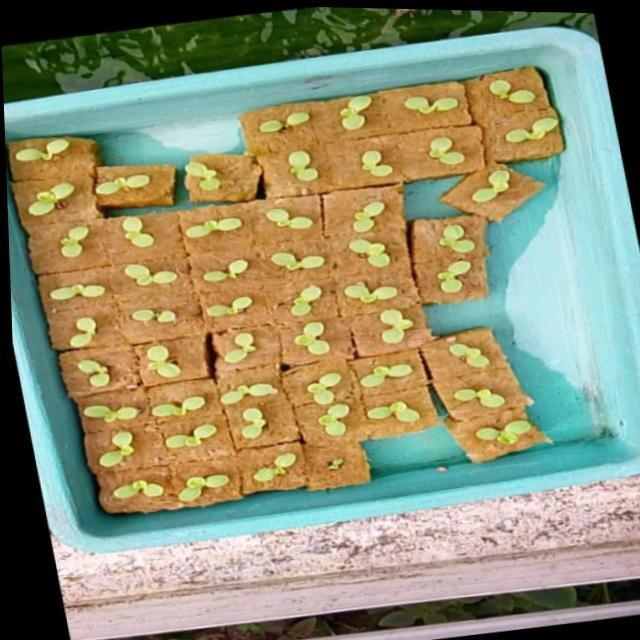Baby: (438, 170, 493, 216), (20, 220, 80, 261), (457, 77, 527, 112), (461, 110, 516, 147), (323, 277, 375, 311), (185, 336, 235, 370), (95, 311, 160, 337), (328, 366, 386, 395), (326, 242, 384, 270), (36, 364, 79, 400), (145, 482, 198, 510), (450, 423, 506, 449), (45, 410, 110, 432), (383, 96, 448, 118), (189, 388, 248, 411), (222, 459, 267, 489), (417, 220, 454, 256), (353, 312, 388, 348), (174, 261, 224, 286), (119, 401, 175, 423), (66, 438, 100, 474), (114, 350, 150, 384), (96, 266, 151, 288), (317, 97, 350, 133), (266, 325, 301, 358), (279, 377, 313, 410), (245, 254, 300, 274), (264, 288, 298, 320), (289, 407, 321, 440), (179, 299, 227, 321), (330, 202, 362, 235), (80, 486, 132, 506), (423, 346, 463, 372), (404, 140, 440, 168), (263, 152, 295, 183), (427, 392, 479, 411), (94, 219, 126, 249), (343, 410, 393, 429), (19, 286, 76, 302), (413, 271, 448, 297), (40, 321, 68, 352), (338, 152, 370, 178), (211, 414, 236, 446), (134, 436, 176, 454), (244, 211, 279, 231)
